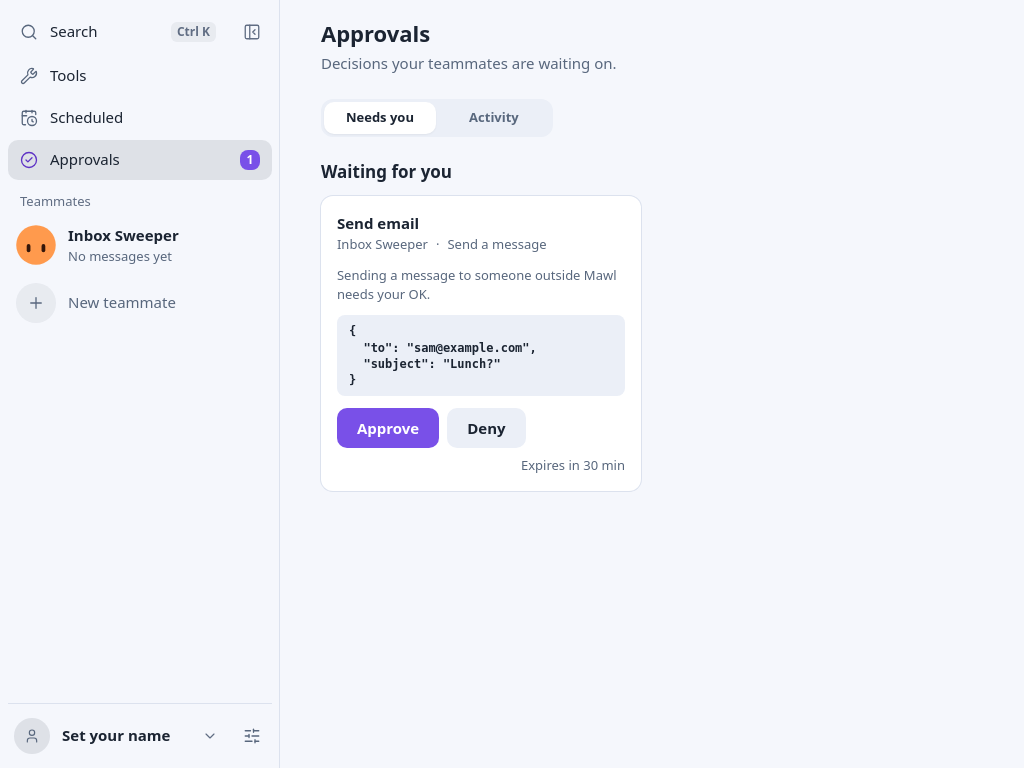
approvals inbox › approves with the right id and shows the result
The image size is (1024, 768).
Click the button "Approve". click: (388, 428)
box: x1=337 y1=408 x2=439 y2=448
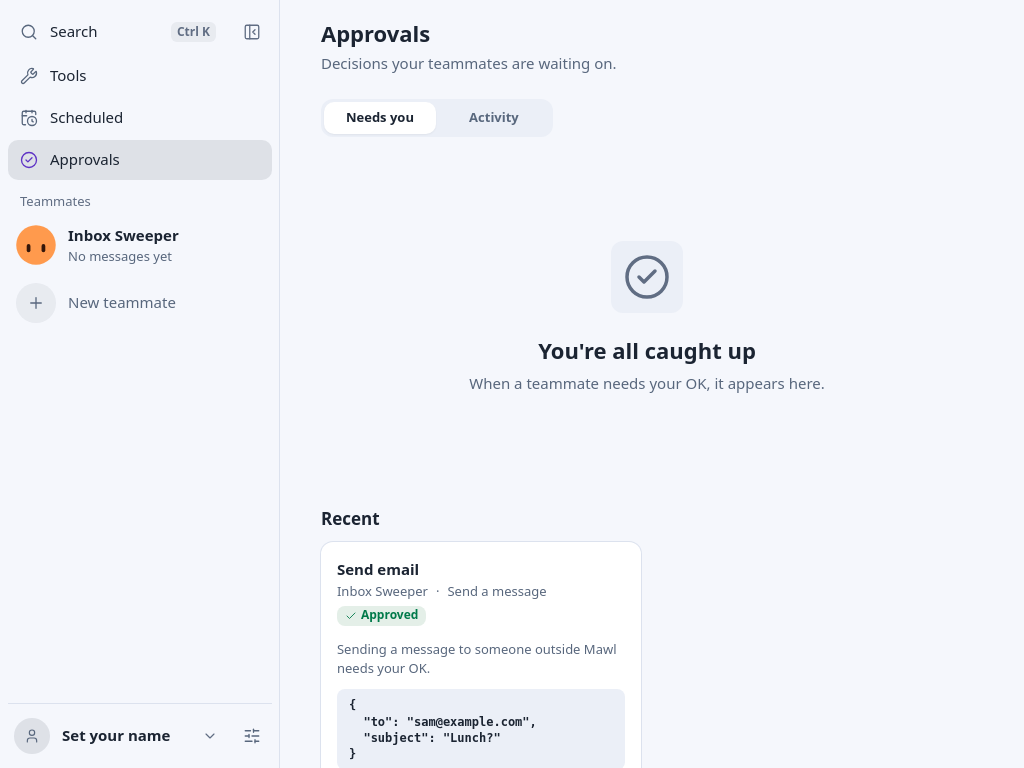
Expected: the text "Approved" is shown, x1=337 y1=606 x2=426 y2=626
Expected: the heading "Waiting for you" is gone
